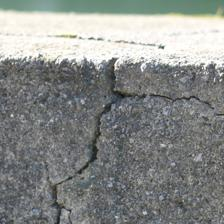Crack: (94, 5, 209, 77), (122, 42, 209, 132), (104, 42, 214, 68)
